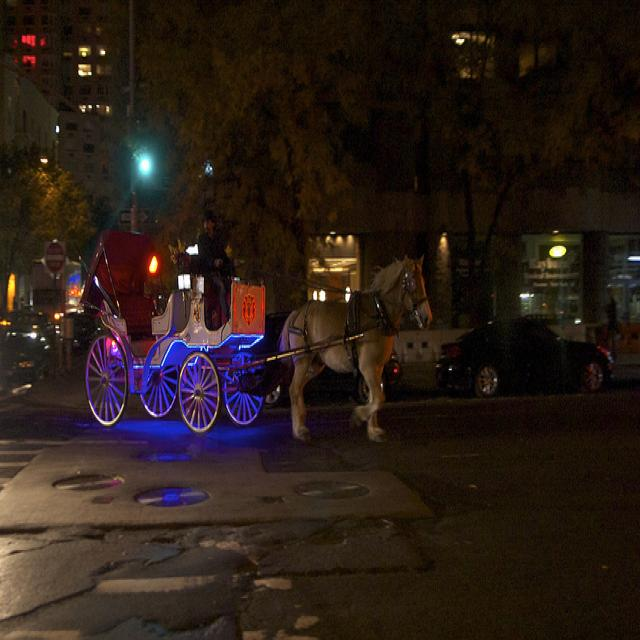Car: (440, 316, 617, 398)
